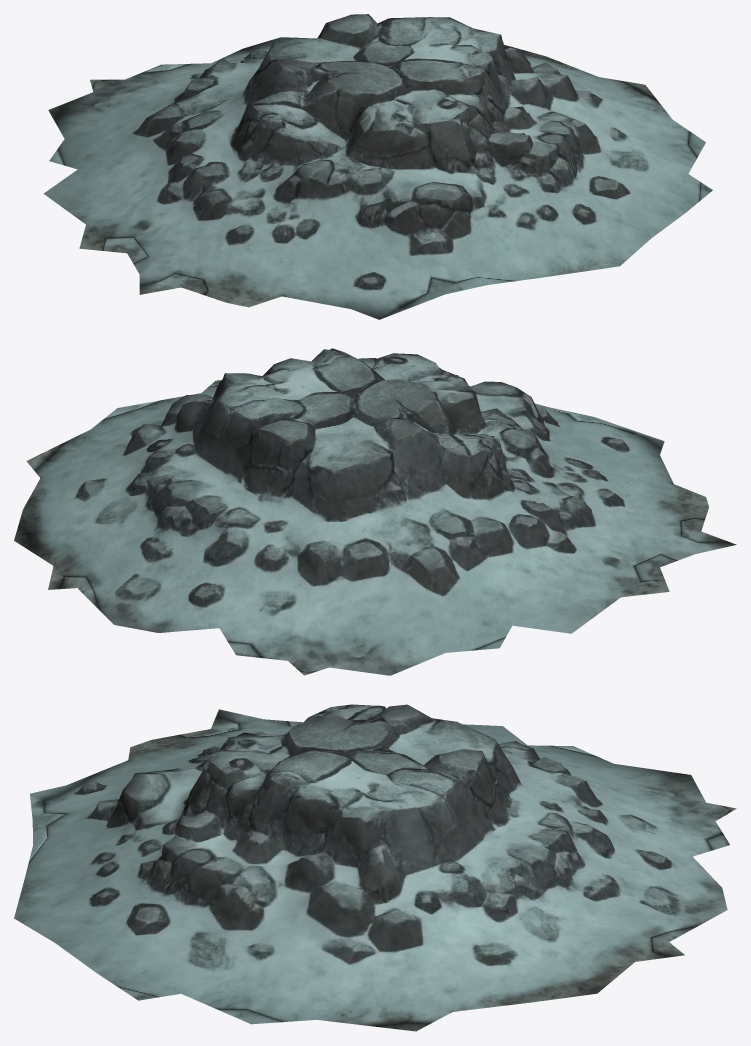
File: tundra-hill-2.glb
The picture shows the model from 3 angles, top to bottom: view 1: azimuth 30°, elevation 25°; view 2: azimuth 150°, elevation 25°; view 3: azimuth 270°, elevation 25°; orthographic projection. The views are drawn at different scales.
Visible parts, largest first — view 1: geometry_0; view 2: geometry_0; view 3: geometry_0.
Boxes of the visible parts, bbox=[...] form: geometry_0: bbox=[43, 14, 712, 319]; geometry_0: bbox=[14, 348, 736, 675]; geometry_0: bbox=[14, 704, 736, 1031].
Size of the model in its own units: 0.93 by 0.1758 by 0.8808.
1 material, 1 textured.
